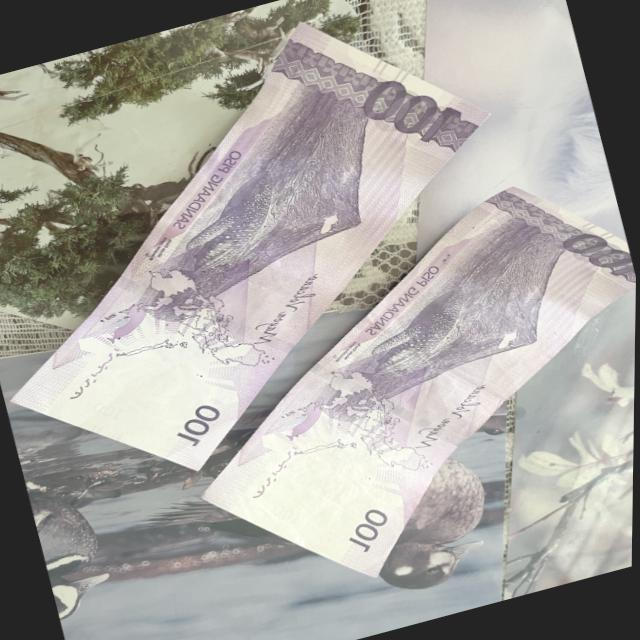100_whale: (151, 162, 316, 298), (339, 277, 487, 394)
100_whale_watermark: (267, 388, 345, 450), (94, 295, 163, 356)
value_watermark: (256, 484, 315, 534), (84, 392, 133, 429)
watermark: (248, 418, 395, 549)
